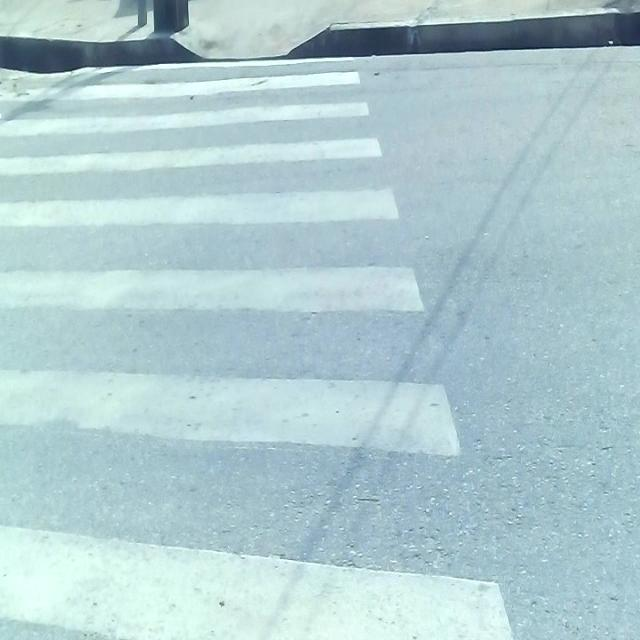crosswalk: (0, 57, 518, 640)
